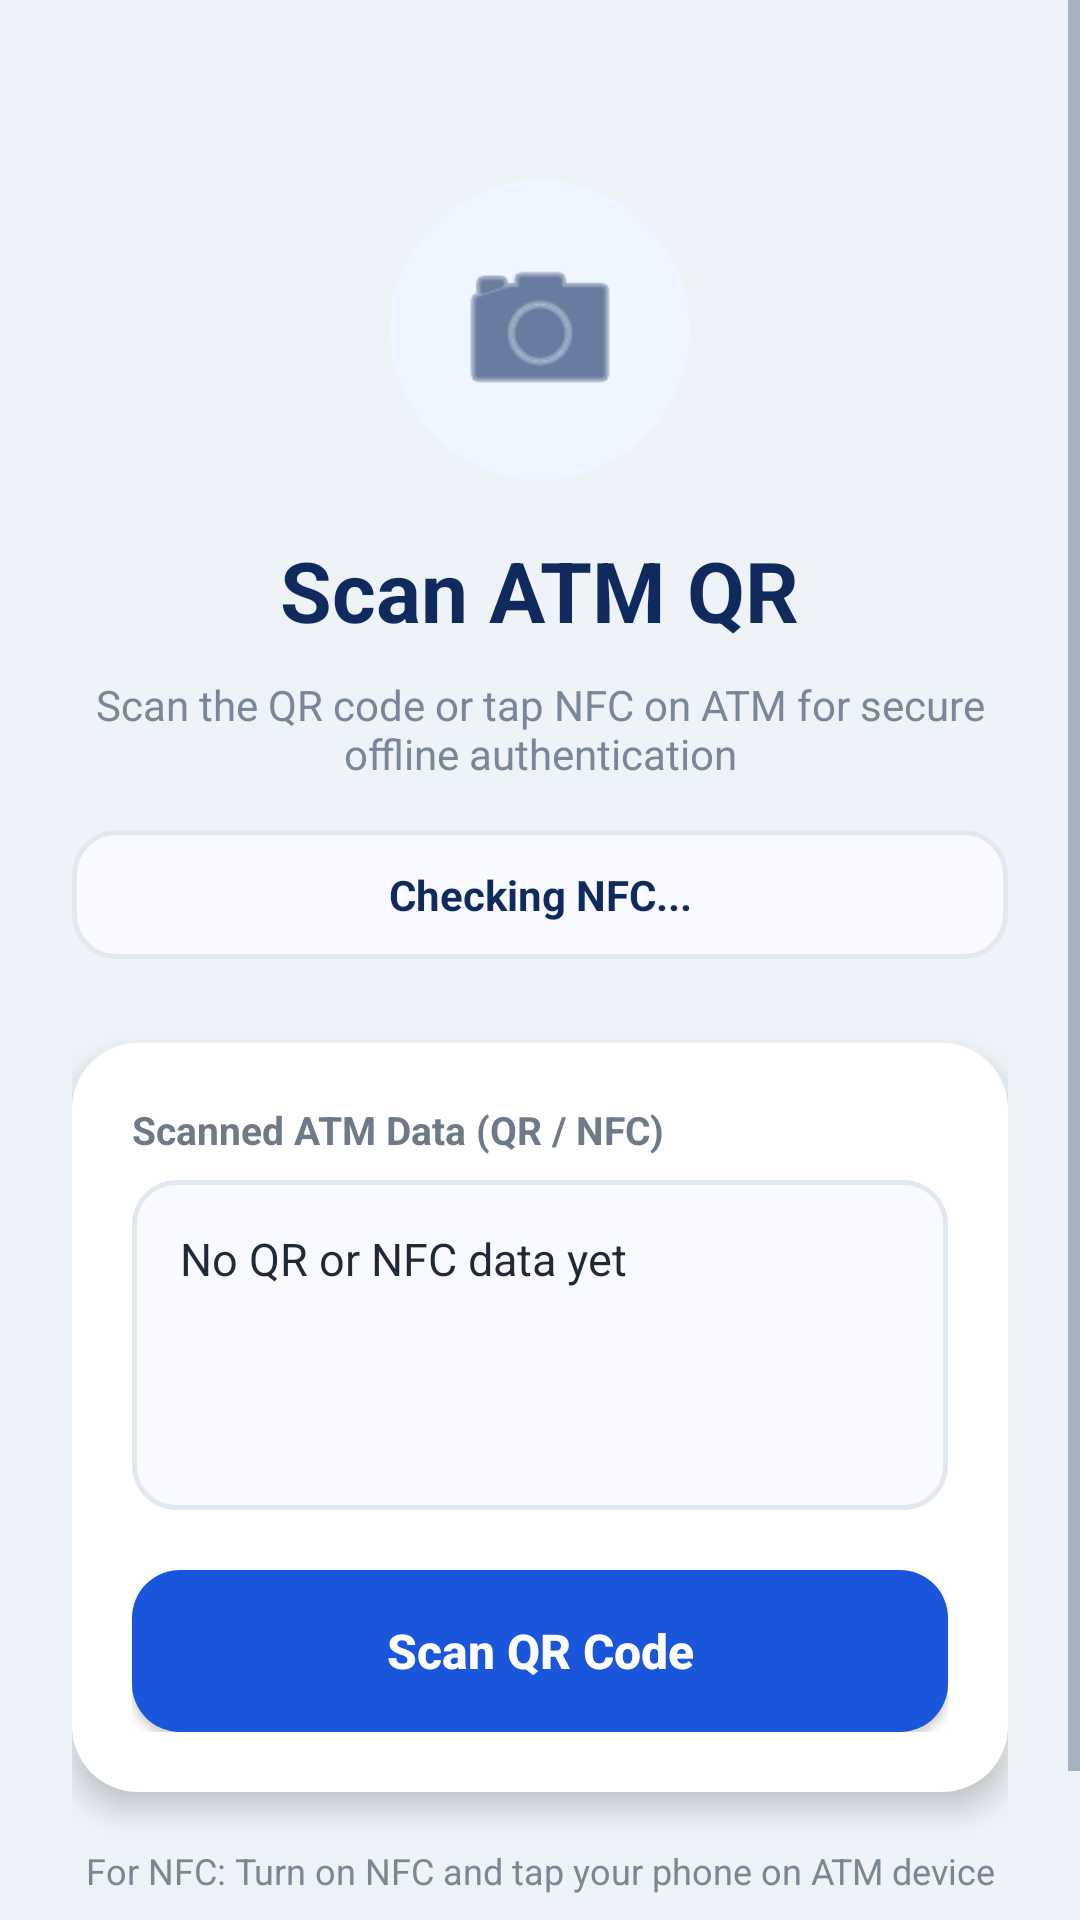

Locate icon controls on the screen. Image size 1080px×1920px, boxes as (x1, y1, x2, y2).
camera: (470, 272, 610, 383)
